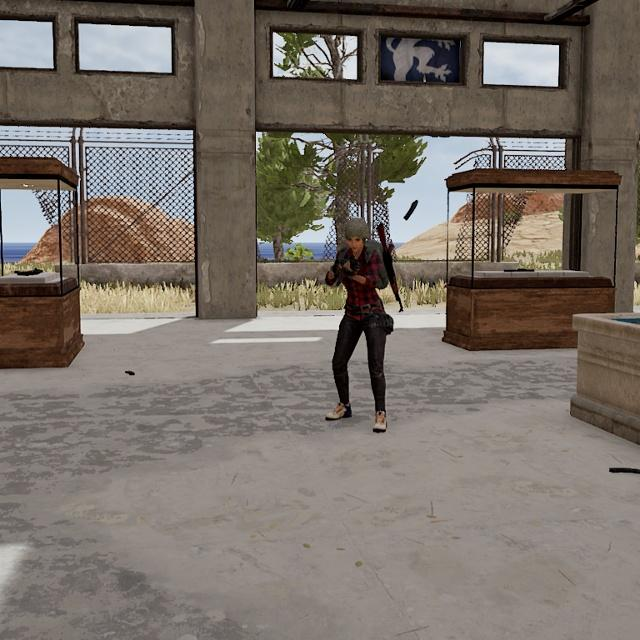head: (343, 216, 369, 254)
people: (325, 216, 394, 432)
